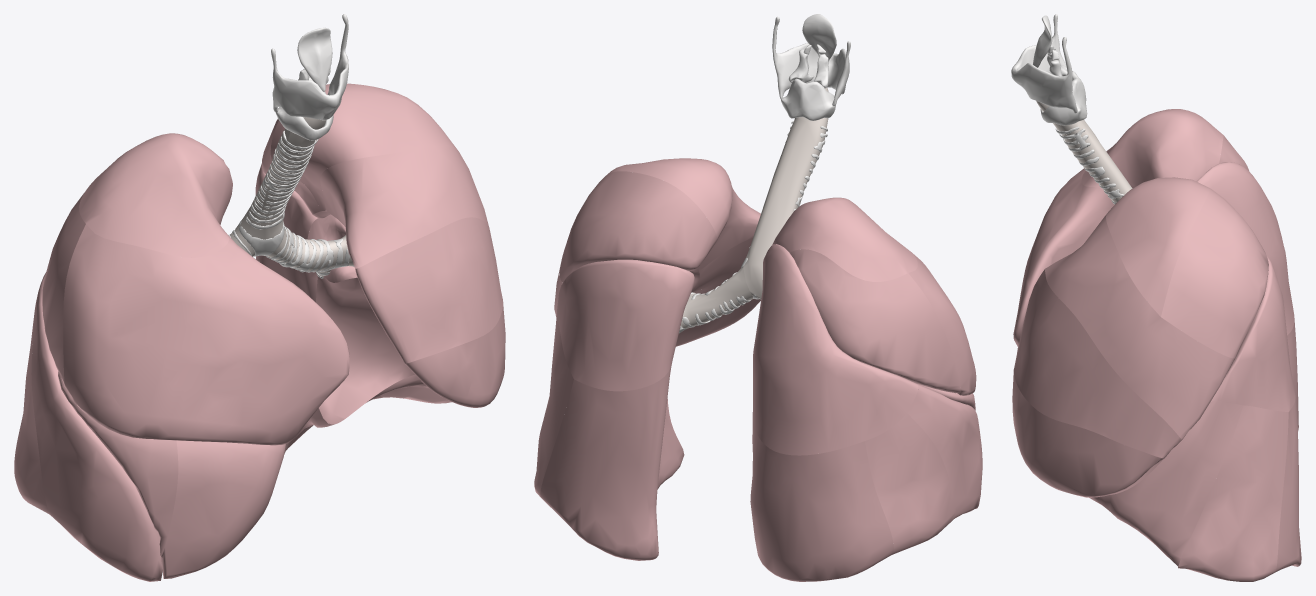
File: lung.glb
The picture shows the model from 3 angles, left to right: view 1: azimuth 30°, elevation 25°; view 2: azimuth 150°, elevation 25°; view 3: azimuth 270°, elevation 25°; orthographic projection. The views are drawn at different scales.
Parts seen in each view (by area): view 1: VH_F_right_anterior_bronchopulmonary_segm, VH_F_right_anterior_basal_bronchopulmonary_segment, VH_F_lingula_superior_bronchopulmonary_segment, VH_F_right_apical_bronchopulmonary_segment, VH_F_left_anterior_bronchopulmonary_segment, VH_F_right_medial_bronchopulmonary_segment, VH_F_left_apical_bronchopulmonary_segment, VH_F_left_medial_basal_bronchopulmonary_segment, VH_F_lingula_inferior_bronchopulmonary_segment, VH_F_right_lateral_bronchopulmonary_segmennt, VH_F_right_posterior_bronchopulmonary_segment, VH_F_thyroid_cartilage (+14 smaller); view 2: VH_F_right_superior_bronchopulmonary_segment, VH_F_left_posterior_basal_bronchopulmonary_segment, VH_F_right_posterior_basal_bronchopulmonary_segment, VH_F_left_superior_bronchopulmonary_segment, VH_F_right_posterior_bronchopulmonary_segment, VH_F_left_posterior_bronchopulmonary_segment, VH_F_right_lateral_basal_bronchopulmonary_segment, VH_F_right_apical_bronchopulmonary_segment, VH_F_right_anterior_basal_bronchopulmonary_segment, VH_F_trachea, VH_F_left_apical_bronchopulmonary_segment, VH_F_right_anterior_bronchopulmonary_segm (+9 smaller); view 3: VH_F_left_anterior_bronchopulmonary_segment, VH_F_lingula_superior_bronchopulmonary_segment, VH_F_left_lateral_basal_bronchopulmonary_segment, VH_F_left_posterior_bronchopulmonary_segment, VH_F_left_anterior_basal_bronchopulmonary_segment, VH_F_lingula_inferior_bronchopulmonary_segment, VH_F_left_apical_bronchopulmonary_segment, VH_F_right_apical_bronchopulmonary_segment, VH_F_left_superior_bronchopulmonary_segment, VH_F_right_anterior_bronchopulmonary_segm, VH_F_right_superior_bronchopulmonary_segment, VH_F_thyroid_cartilage (+7 smaller).
Part boxes in pixels (x1,y1,x2,y2): VH_F_right_anterior_bronchopulmonary_segm: (63, 224, 349, 445); VH_F_right_anterior_basal_bronchopulmonary_segment: (31, 328, 162, 581); VH_F_lingula_superior_bronchopulmonary_segment: (355, 217, 503, 363); VH_F_right_apical_bronchopulmonary_segment: (79, 133, 232, 257); VH_F_left_anterior_bronchopulmonary_segment: (320, 145, 489, 268); VH_F_right_medial_bronchopulmonary_segment: (160, 440, 285, 578); VH_F_left_apical_bronchopulmonary_segment: (270, 83, 458, 211); VH_F_left_medial_basal_bronchopulmonary_segment: (316, 276, 414, 424); VH_F_lingula_inferior_bronchopulmonary_segment: (405, 305, 505, 407); VH_F_right_lateral_bronchopulmonary_segmennt: (58, 371, 178, 555); VH_F_right_posterior_bronchopulmonary_segment: (42, 193, 85, 386); VH_F_thyroid_cartilage: (271, 14, 348, 120); VH_F_right_superior_bronchopulmonary_segment: (753, 244, 918, 455); VH_F_left_posterior_basal_bronchopulmonary_segment: (540, 367, 684, 560); VH_F_right_posterior_basal_bronchopulmonary_segment: (750, 412, 893, 581); VH_F_left_superior_bronchopulmonary_segment: (557, 259, 694, 391); VH_F_right_posterior_bronchopulmonary_segment: (790, 249, 960, 393); VH_F_left_posterior_bronchopulmonary_segment: (560, 171, 716, 282); VH_F_right_lateral_basal_bronchopulmonary_segment: (865, 413, 955, 554); VH_F_right_apical_bronchopulmonary_segment: (772, 197, 917, 281); VH_F_right_anterior_basal_bronchopulmonary_segment: (907, 384, 982, 517); VH_F_trachea: (743, 87, 828, 298); VH_F_left_apical_bronchopulmonary_segment: (606, 158, 732, 240); VH_F_right_anterior_bronchopulmonary_segm: (908, 253, 976, 395); VH_F_left_anterior_bronchopulmonary_segment: (1045, 215, 1235, 439); VH_F_lingula_superior_bronchopulmonary_segment: (1013, 269, 1182, 458); VH_F_left_lateral_basal_bronchopulmonary_segment: (1178, 405, 1288, 581); VH_F_left_posterior_bronchopulmonary_segment: (1161, 188, 1268, 358); VH_F_left_anterior_basal_bronchopulmonary_segment: (1089, 400, 1243, 567); VH_F_lingula_inferior_bronchopulmonary_segment: (1012, 372, 1163, 497); VH_F_left_apical_bronchopulmonary_segment: (1106, 177, 1210, 316); VH_F_right_apical_bronchopulmonary_segment: (1081, 109, 1223, 188); VH_F_left_superior_bronchopulmonary_segment: (1211, 256, 1295, 412); VH_F_right_anterior_bronchopulmonary_segm: (1013, 168, 1114, 347); VH_F_right_superior_bronchopulmonary_segment: (1197, 162, 1294, 335); VH_F_thyroid_cartilage: (1011, 14, 1077, 113).
Bounding box in the file's own units: 0.251 × 0.2968 × 0.1531.
